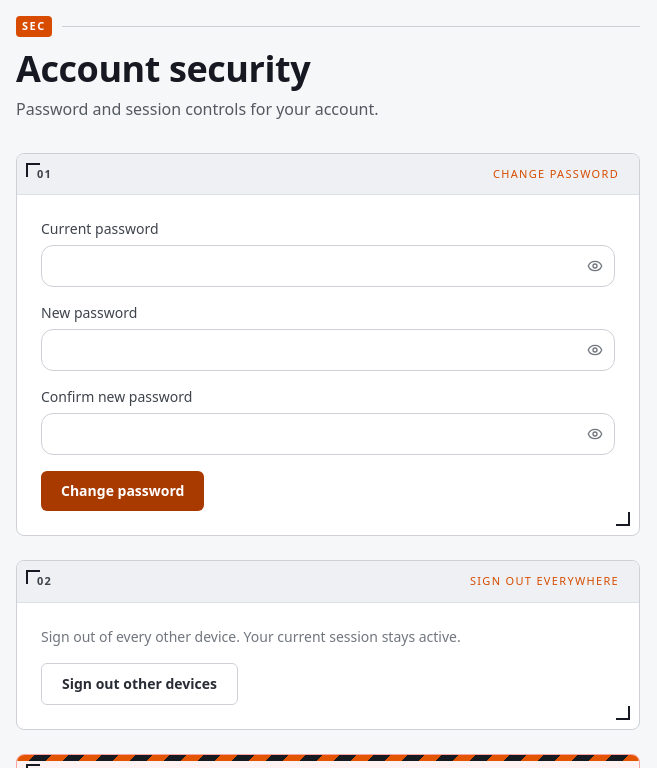
Test: SecuritySettings — change password › blocks submission and shows role=alert when the passwords differ
The image size is (657, 768).
Type "oldpass1" into the password field labelled "Current password". click: (328, 266)
box: [41,245,615,287]
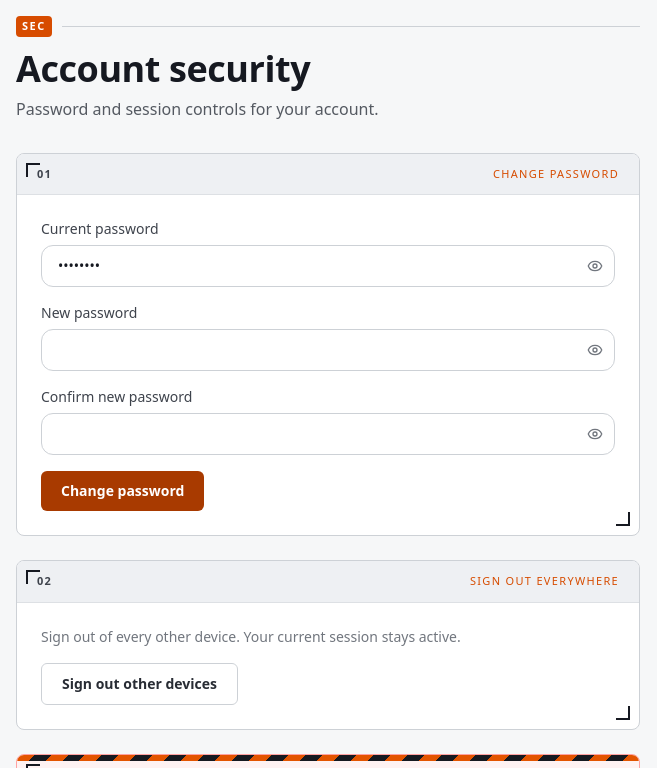
Type "newpass1" into the password field labelled "New password". click: (328, 350)
box: [41,329,615,371]
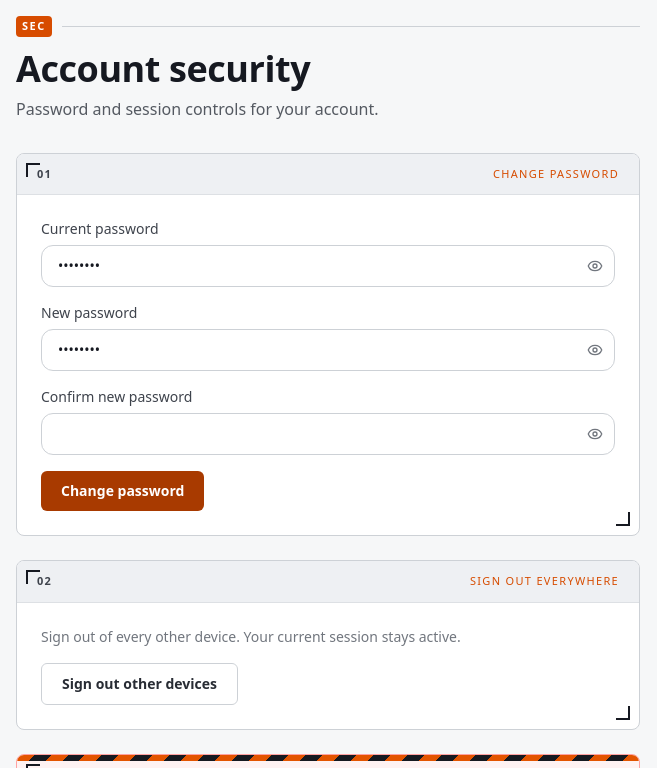
Type "different" into the password field labelled "Confirm new password". click: (328, 434)
box: [41,413,615,455]
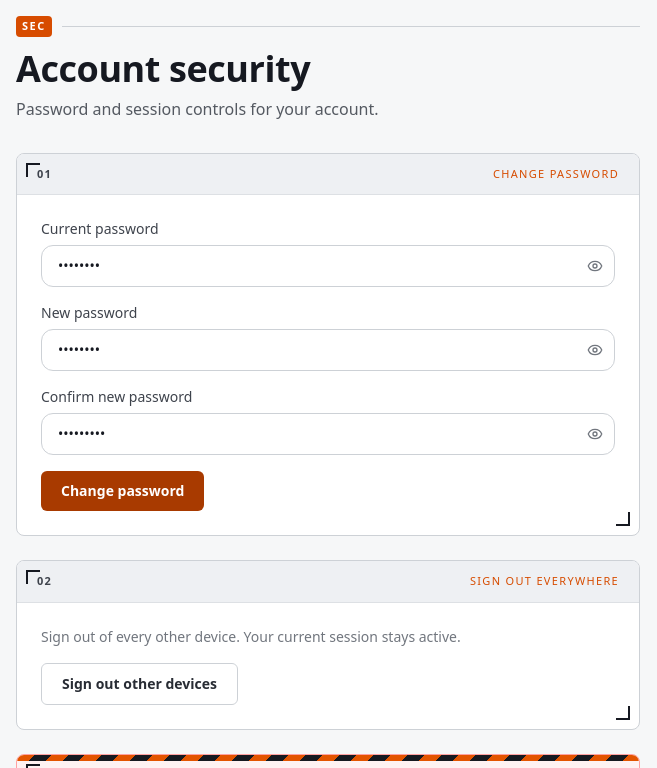
Submit the form "Change password", box [16,152,640,536]
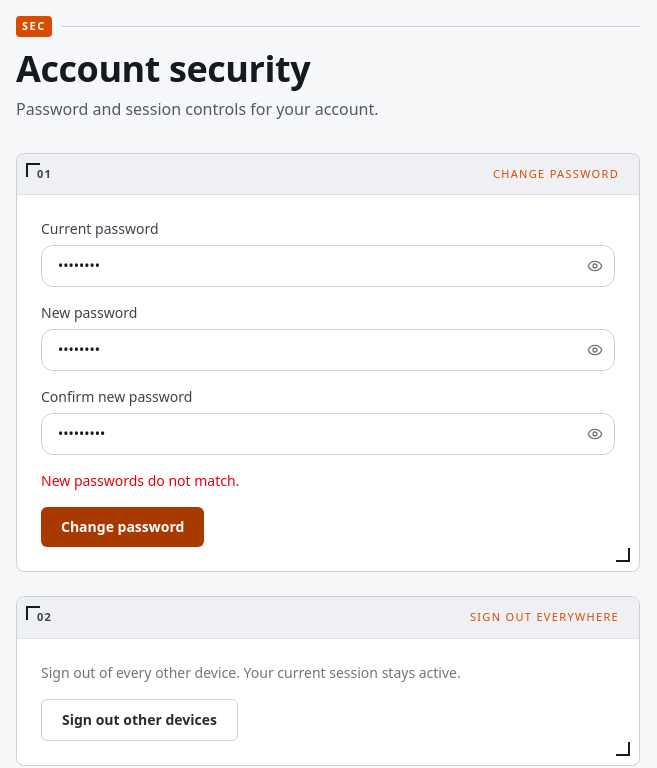
Now the message reads "New passwords do not match.", box [41,471,239,490]
